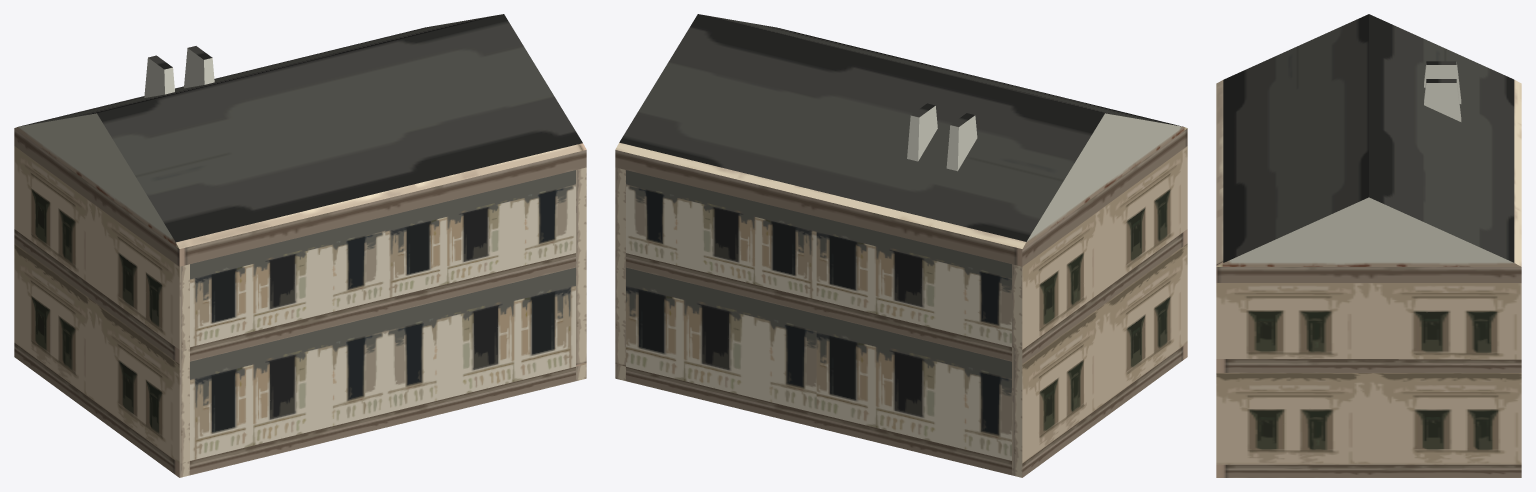
Rendered from SM_Building_Rich_02a.fbx.
3 renders of one model, left to right at view 1: azimuth 30°, elevation 25°; view 2: azimuth 150°, elevation 25°; view 3: azimuth 270°, elevation 25°, orthographic. The views are drawn at different scales.
Parts seen in each view (by area): view 1: SM_Building_Rich_02a; view 2: SM_Building_Rich_02a; view 3: SM_Building_Rich_02a.
Part boxes in pixels (box(x1,y1,x2,y2)): SM_Building_Rich_02a: box(14, 14, 586, 477); SM_Building_Rich_02a: box(615, 14, 1187, 477); SM_Building_Rich_02a: box(1216, 14, 1521, 477).
Size of the model in its own units: 20 by 14.27 by 14.06.
